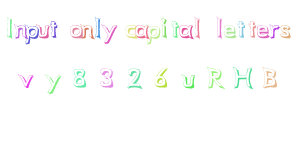2: (127, 67, 144, 90)
3: (99, 67, 115, 89)
6: (153, 67, 171, 89)
8: (72, 67, 88, 88)
B: (261, 66, 278, 89)
H: (231, 66, 254, 90)
I: (3, 15, 18, 39)
R: (206, 66, 226, 90)
a: (179, 23, 195, 40), (135, 23, 149, 40)
c: (124, 23, 138, 40)
e: (223, 24, 237, 39), (256, 23, 269, 39)
i: (159, 15, 169, 38)
l: (214, 15, 224, 39), (193, 15, 203, 38), (93, 16, 102, 39)
n: (80, 22, 95, 40), (13, 22, 28, 38)
o: (69, 23, 83, 39)
p: (24, 22, 40, 45), (147, 23, 160, 45)
r: (268, 23, 280, 40)
s: (280, 23, 292, 40)
t: (236, 18, 247, 38), (246, 18, 257, 38), (49, 18, 58, 39), (170, 19, 179, 40)
u: (181, 72, 196, 89), (36, 21, 50, 39)
v: (17, 72, 35, 89)
y: (44, 72, 62, 95), (101, 22, 118, 45)
